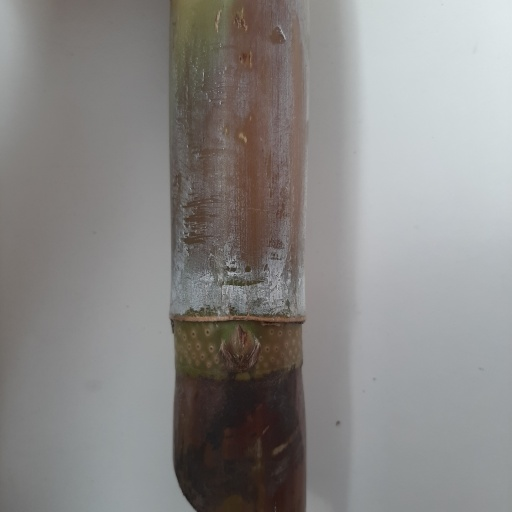Bud: (222, 325, 259, 369)
